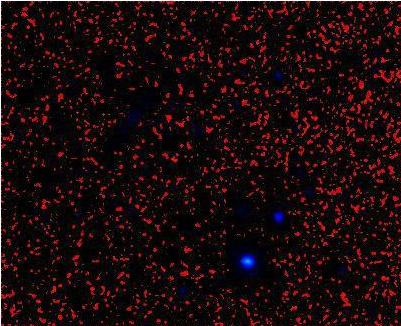star: (118, 102, 148, 132)
